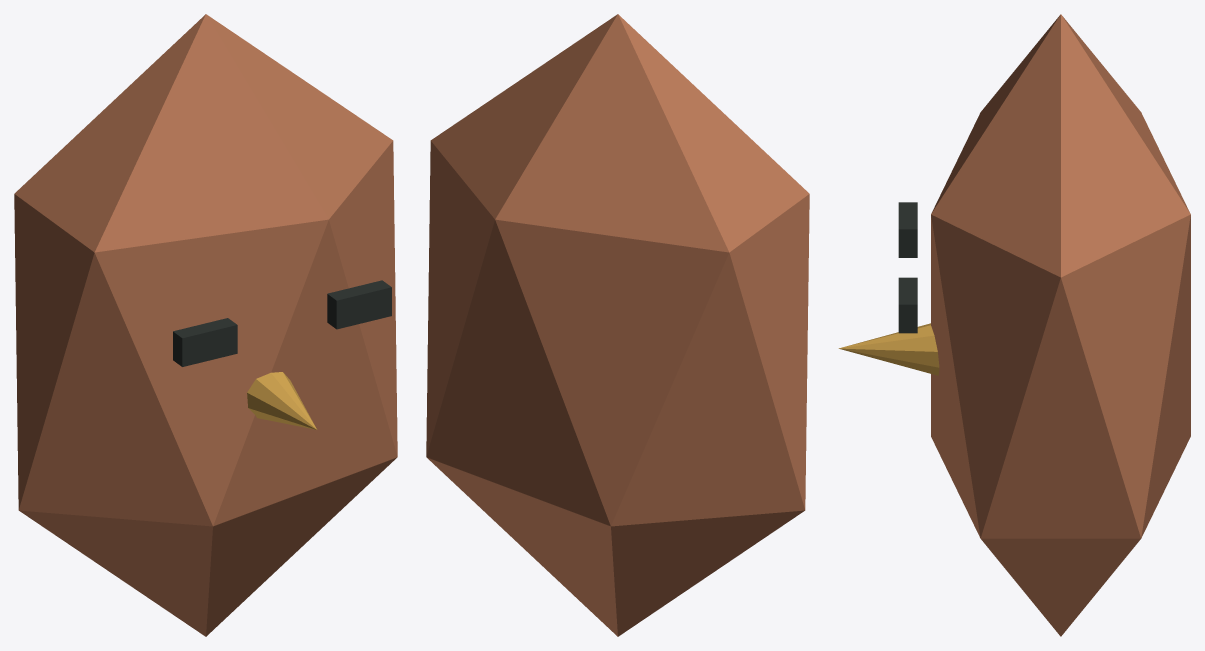
File: museum_mask.fbx
The picture shows the model from 3 angles, left to right: view 1: azimuth 30°, elevation 25°; view 2: azimuth 150°, elevation 25°; view 3: azimuth 270°, elevation 25°; orthographic projection.
Visible parts, largest first — view 1: museum_mask.002; view 2: museum_mask.002; view 3: museum_mask.002.
Part boxes in pixels (bbox=[...]): museum_mask.002: bbox=[14, 14, 397, 636]; museum_mask.002: bbox=[426, 14, 809, 636]; museum_mask.002: bbox=[838, 14, 1190, 636].
Size of the model in its own units: 33.99 by 54 by 27.71.
